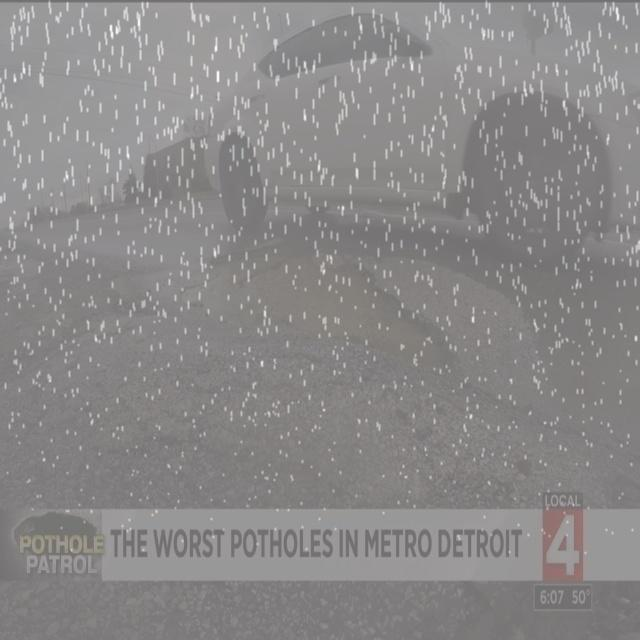Pothole: (185, 229, 468, 395)
